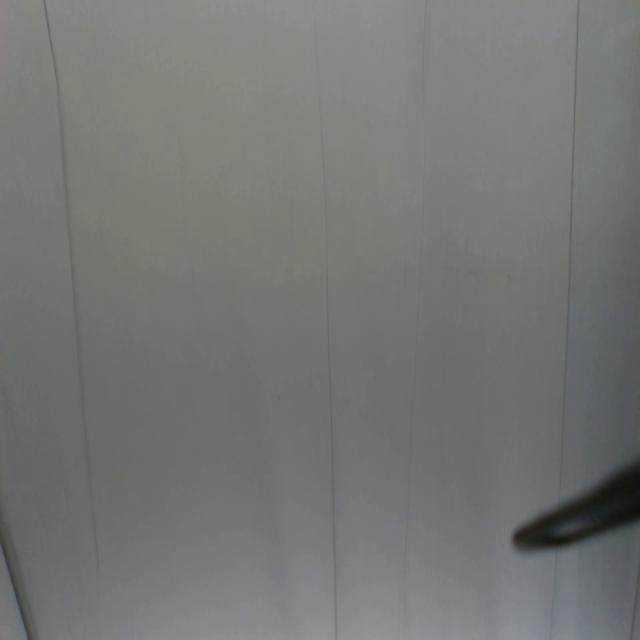crease: (40, 0, 104, 590), (311, 10, 340, 640), (399, 0, 430, 569), (555, 0, 582, 494), (0, 530, 35, 640), (547, 552, 563, 640)
